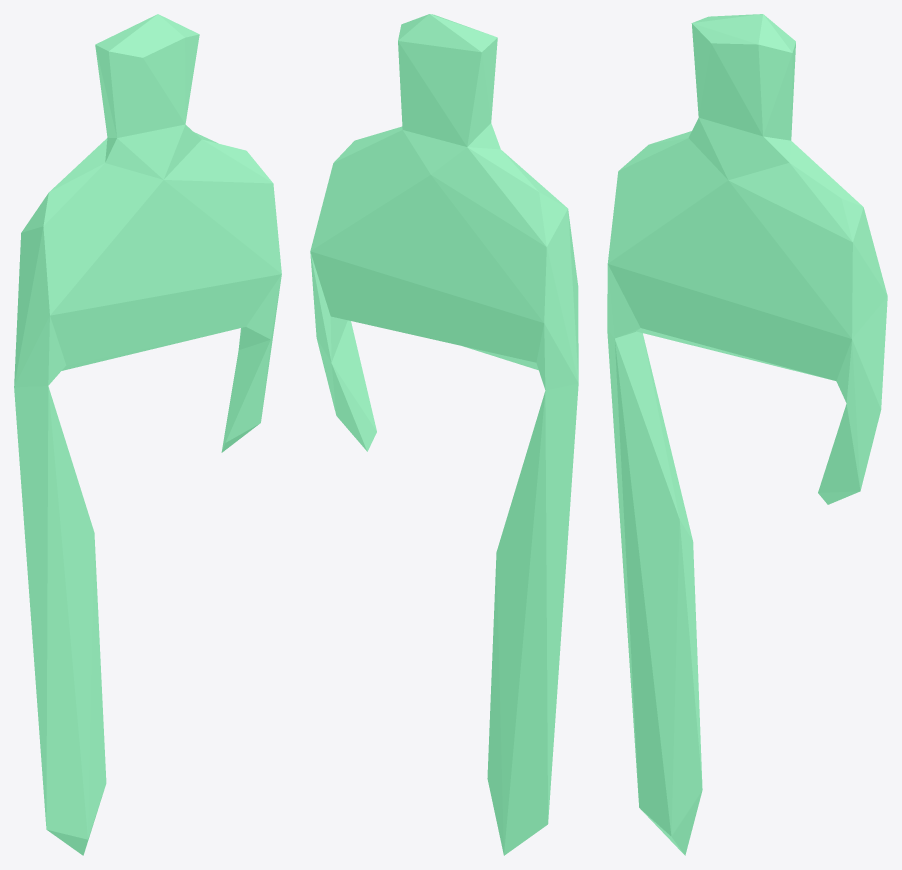
Rendered from elena_synth.glb.
The picture shows the model from 3 angles, left to right: view 1: azimuth 30°, elevation 25°; view 2: azimuth 150°, elevation 25°; view 3: azimuth 330°, elevation 25°; orthographic projection. The views are drawn at different scales.
Visible parts, largest first — view 1: Elena_Synth; view 2: Elena_Synth; view 3: Elena_Synth.
Part boxes in pixels (x1=…): Elena_Synth: x1=14, y1=14, x2=281, y2=855; Elena_Synth: x1=310, y1=14, x2=578, y2=855; Elena_Synth: x1=607, y1=14, x2=887, y2=855.
Size of the model in its own units: 0.7317 by 2.22 by 0.1628.
